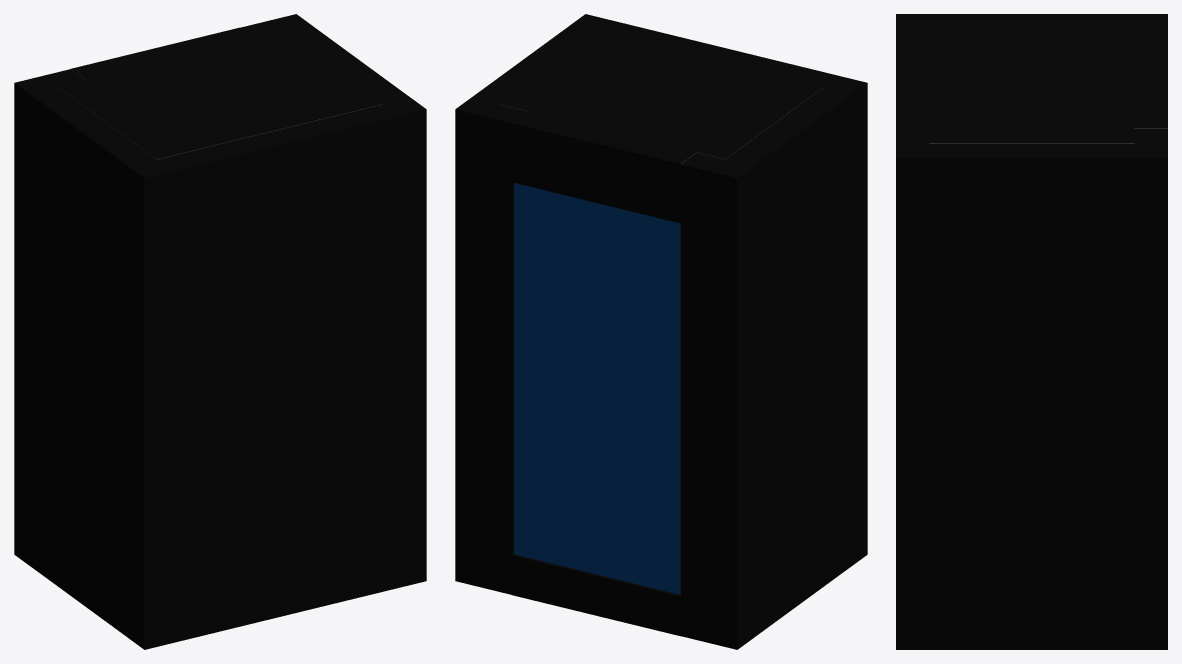
File: Elevator.fbx
3 views of the same model, side by side, from view 1: azimuth 30°, elevation 25°; view 2: azimuth 150°, elevation 25°; view 3: azimuth 270°, elevation 25° (orthographic). The views are drawn at different scales.
Parts seen in each view (by area): view 1: polySurface5; view 2: polySurface5, polySurface2, polySurface3, polySurface1, polySurface4; view 3: polySurface5.
Part boxes in pixels (left/top/right/bottom): polySurface5: left=14, top=14, right=426, bottom=649; polySurface5: left=455, top=14, right=867, bottom=649; polySurface2: left=555, top=193, right=598, bottom=574; polySurface3: left=598, top=203, right=640, bottom=584; polySurface1: left=514, top=183, right=555, bottom=564; polySurface4: left=640, top=214, right=680, bottom=594; polySurface5: left=896, top=14, right=1167, bottom=649.
Bounding box in the file's own units: 60.08 × 96.08 × 48.06.
